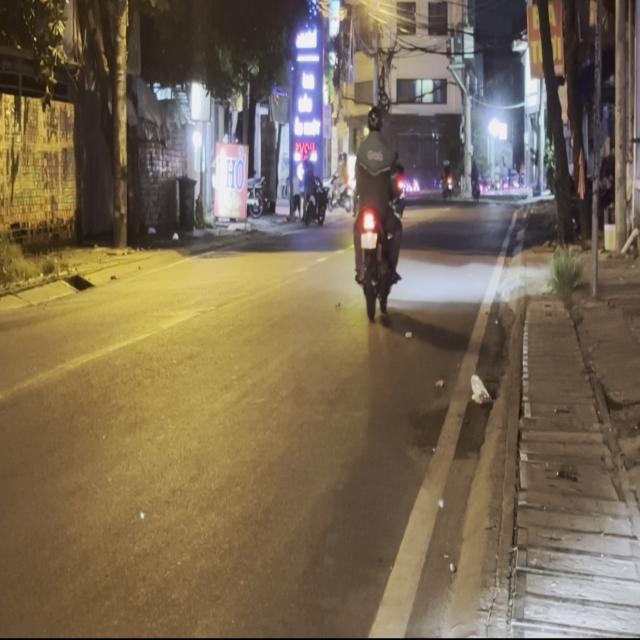helmet: (366, 102, 383, 132)
licenseplate: (348, 100, 404, 317)
nohelmet: (361, 232, 376, 248)
